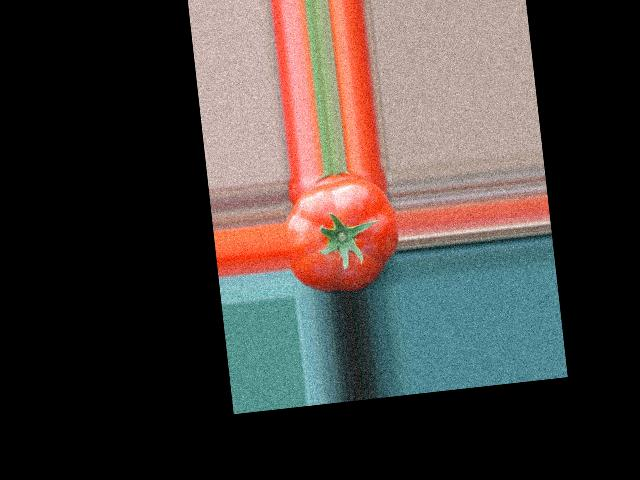tomato: (281, 173, 404, 296)
